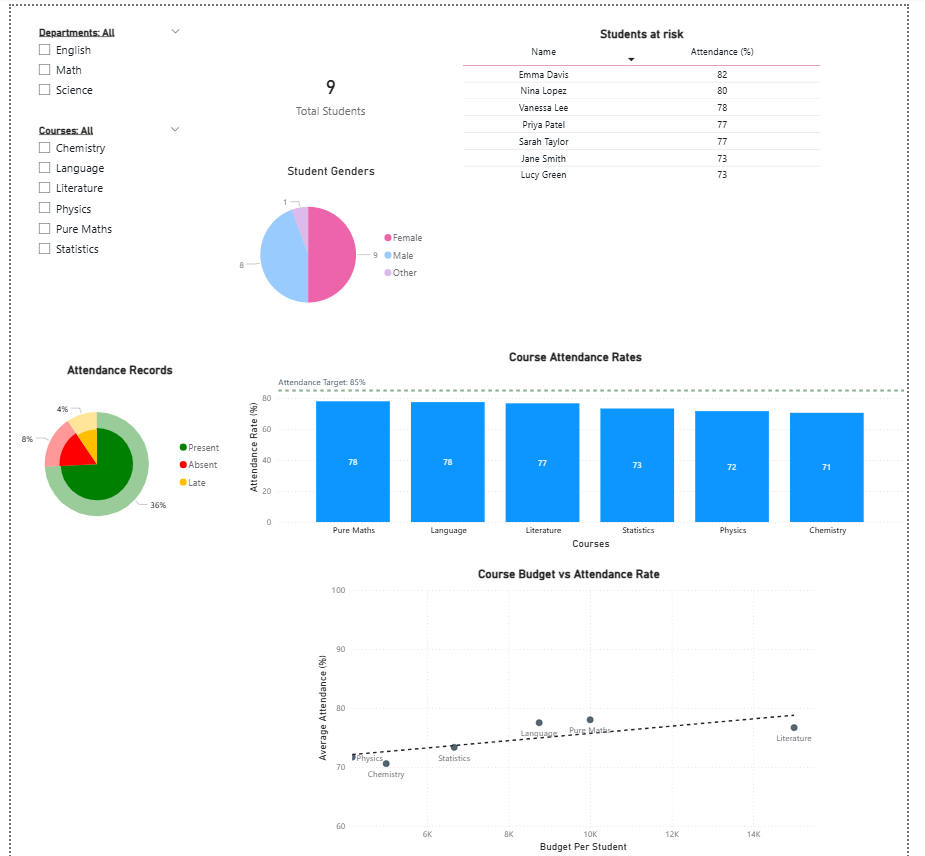

This screenshot's page, from the dashboard's own definition file:
{"tool":"powerbi","page":{"name":"Page 1","canvas":[1280,1440],"ordinal":0},"visuals":[{"type":"clusteredColumnChart","title":"Course Attendance Rates","fields":{"Category":["vw_courseOverview.courseName"],"Y":["Sum(vw_courseOverview.avgAttendance)"]},"box":[332.5,491.2,947.5,288.8],"z":1000},{"type":"slicer","fields":{"Values":["vw_courseOverview.departmentName"]},"box":[27.1,24.3,227.1,131.4],"z":2000},{"type":"pieChart","title":"Attendance Records","fields":{"Category":["attendances.AttendanceStatusValue"],"Y":["CountNonNull(attendances.attendanceId)"]},"box":[0,510,311.2,270],"z":3000},{"type":"slicer","title":"Courses","fields":{"Values":["courses.courseName"]},"box":[27.5,163.8,226.2,215],"z":4000},{"type":"card","fields":{"Values":["CourseStudent.StudentCount"]},"box":[335,23.8,245,201.2],"z":5000},{"type":"pieChart","title":"Student Genders","fields":{"Category":["students.StudentGenderValue"],"Y":["CourseStudent.StudentCount"]},"box":[311.2,225,291.2,240],"z":6000},{"type":"tableEx","title":"Students at risk","fields":{"Values":["vw_AtRiskStudents.StudentFullName","vw_AtRiskStudents.attendanceAvg"]},"box":[640,23.8,522.5,450],"z":7000},{"type":"scatterChart","title":"Course Budget vs Attendance Rate","fields":{"X":["Sum(vw_courseOverview.budgetPerStudent)"],"Y":["Sum(vw_courseOverview.avgAttendance)"],"Category":["vw_courseOverview.courseName"]},"box":[431.4,801.4,731.4,412.9],"z":8000}]}

Visuals, with their boxes on the page's 1280x1440 design canvas (x1, y1, x2, y2). These are canvas units, not pixel positions in the 925x856 screenshot, which may show the page scaled, cropped or inside an application window:
"Course Attendance Rates" clusteredColumnChart: 332, 491, 1280, 780
slicer - vw_courseOverview.departmentName: 27, 24, 254, 156
"Attendance Records" pieChart: 0, 510, 311, 780
"Courses" slicer: 28, 164, 254, 379
card - CourseStudent.StudentCount: 335, 24, 580, 225
"Student Genders" pieChart: 311, 225, 602, 465
"Students at risk" tableEx: 640, 24, 1162, 474
"Course Budget vs Attendance Rate" scatterChart: 431, 801, 1163, 1214
